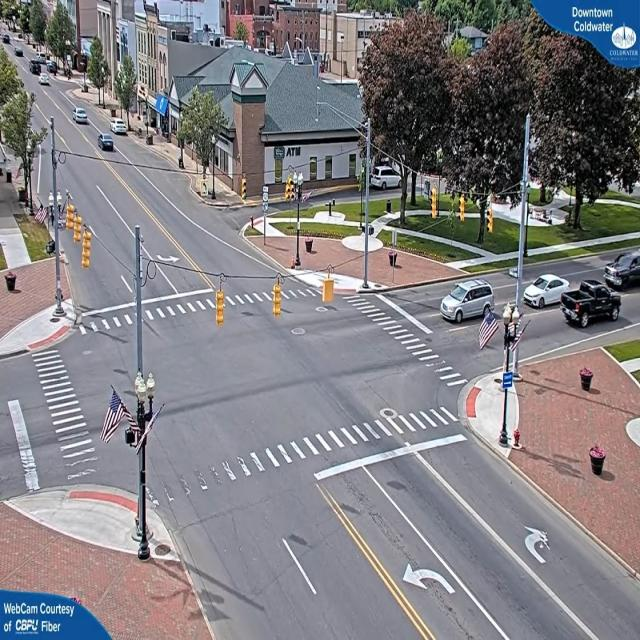car: (564, 280, 623, 328), (441, 278, 495, 327), (526, 276, 570, 310), (605, 250, 639, 292), (71, 109, 88, 126), (98, 133, 114, 151), (112, 120, 128, 136), (41, 76, 52, 88)
